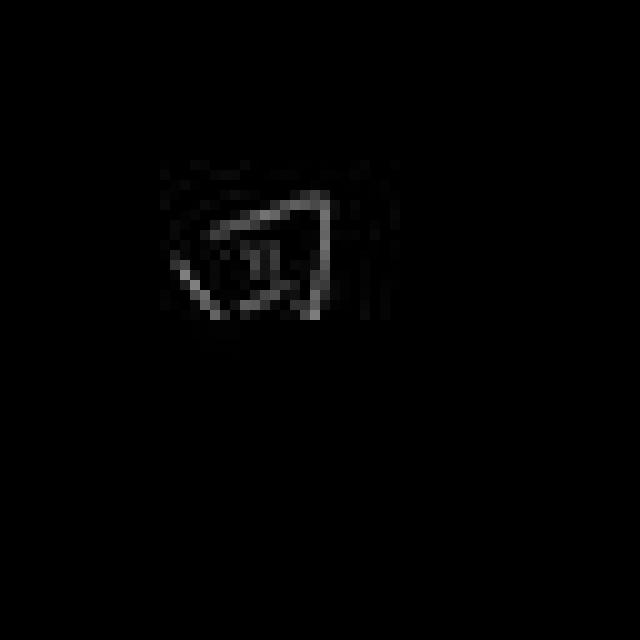4 -four-: (163, 182, 342, 340)
